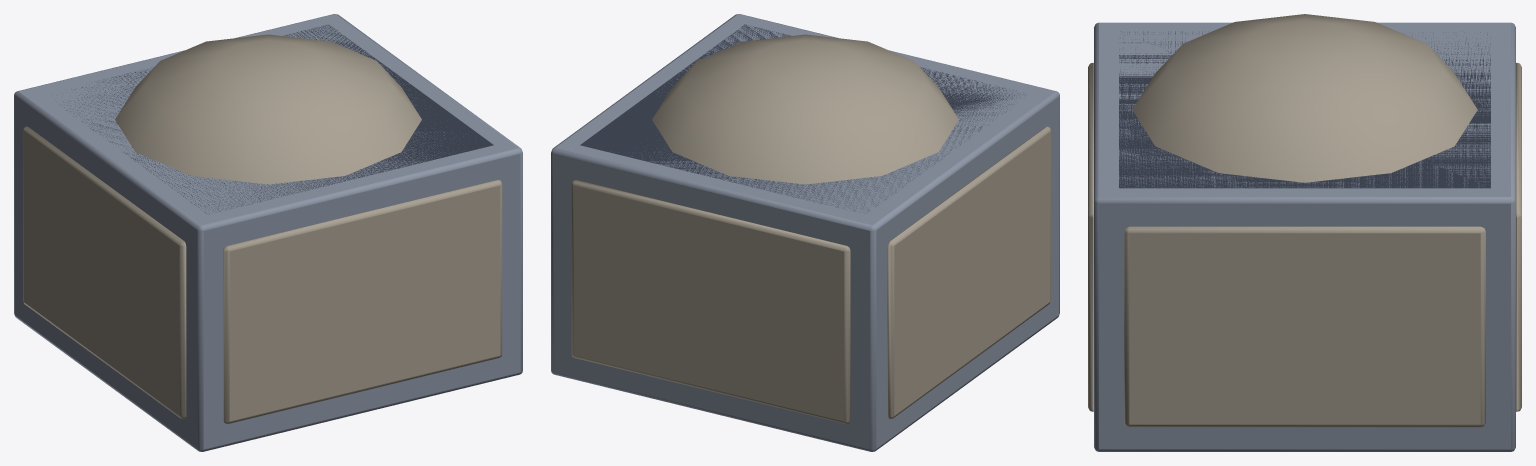
Rendered from ware_staub.fbx.
The picture shows the model from 3 angles, left to right: view 1: azimuth 30°, elevation 25°; view 2: azimuth 150°, elevation 25°; view 3: azimuth 270°, elevation 25°; orthographic projection. The views are drawn at different scales.
Parts seen in each view (by area): view 1: ware_staub_Koerper; view 2: ware_staub_Koerper; view 3: ware_staub_Koerper.
Boxes of the visible parts, left/top/right/bottom form: ware_staub_Koerper: left=14, top=14, right=522, bottom=451; ware_staub_Koerper: left=551, top=14, right=1059, bottom=451; ware_staub_Koerper: left=1088, top=14, right=1521, bottom=451.
Bounding box in the file's own units: 0.432 × 0.355 × 0.432.
